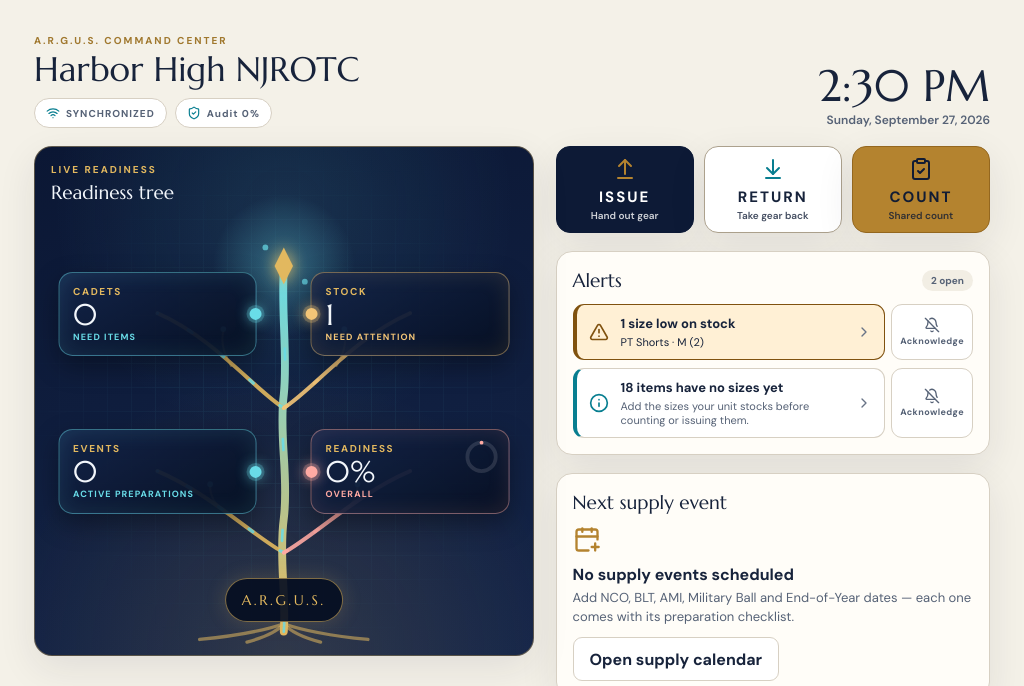
Dashboard alerts: actionable and acknowledgeable › restores an acknowledged alert
The width and height of the screenshot is (1024, 686).
Click the 1st button "Acknowledge" at (932, 332), box [891,304,973,360]
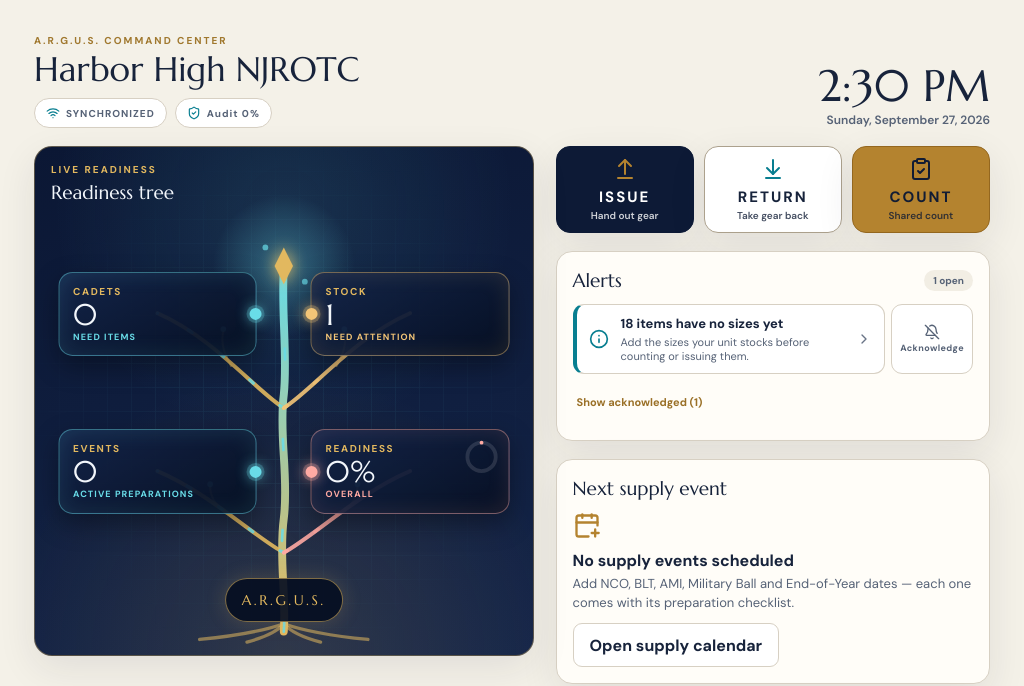
Click the button "Show acknowledged (1)" at (640, 402), box [573,380,706,424]
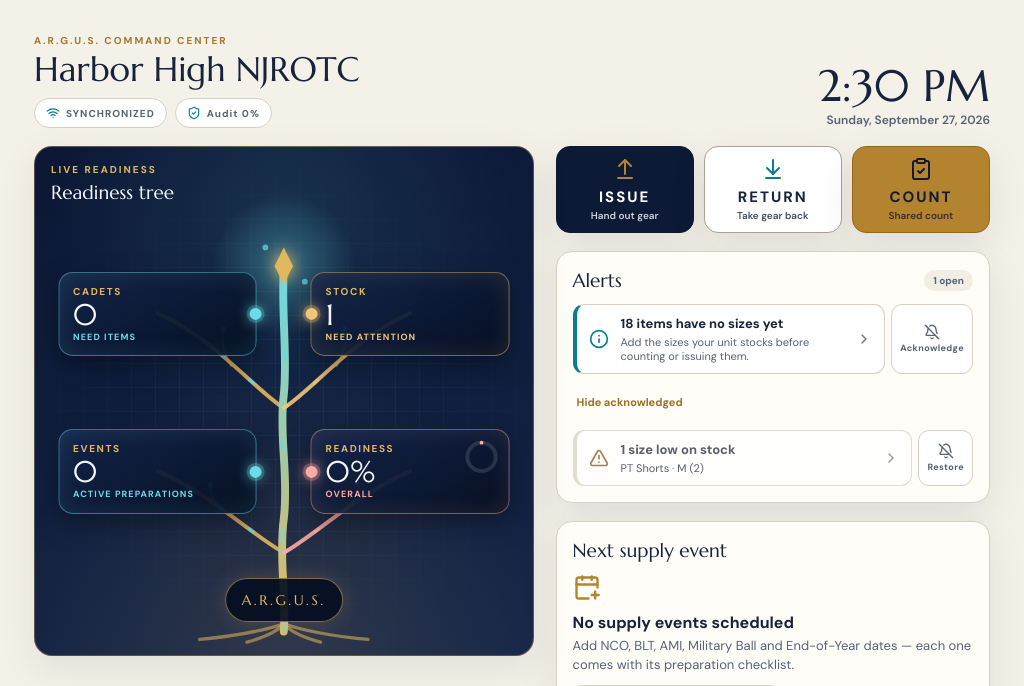
Click the button "Restore" at (946, 458), box [918,430,973,486]
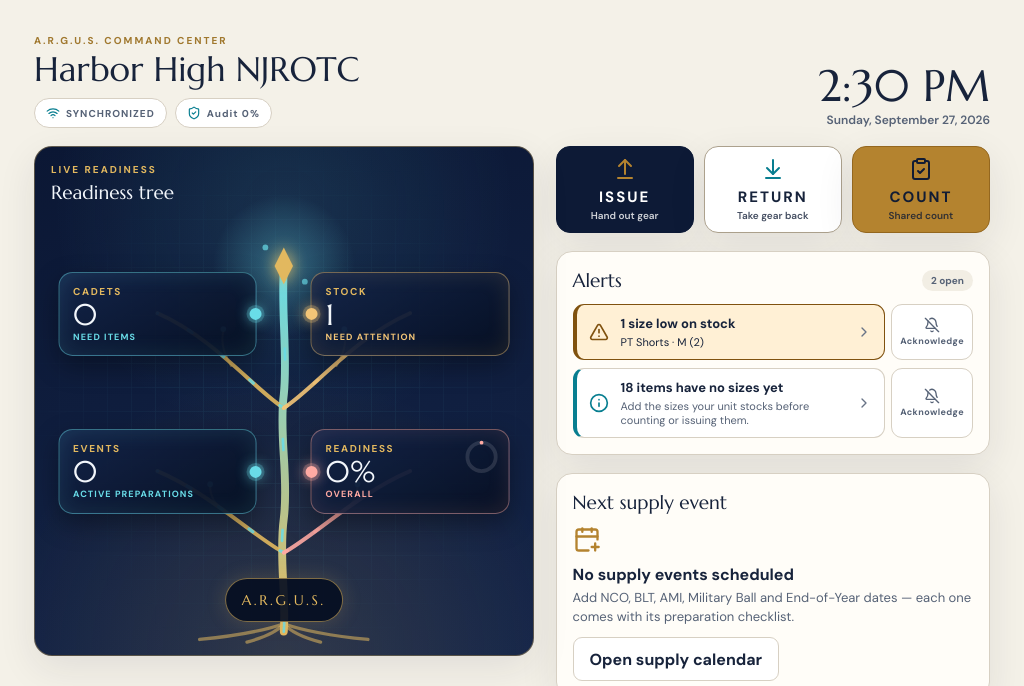
Expected: the button "1 size low on stock PT Shorts · M (2)" is shown, [573,304,885,360]
Expected: the list "Show acknowledged" is gone
